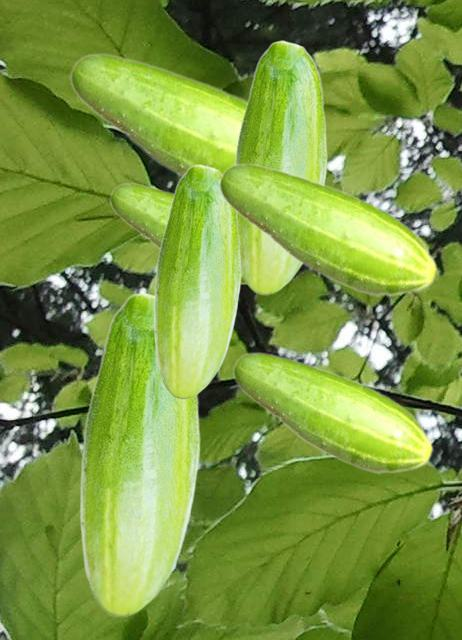cucumber: (79, 292, 199, 616), (218, 162, 437, 297), (232, 351, 433, 474), (232, 40, 326, 294), (69, 52, 246, 178), (153, 164, 240, 398), (109, 182, 246, 285)
